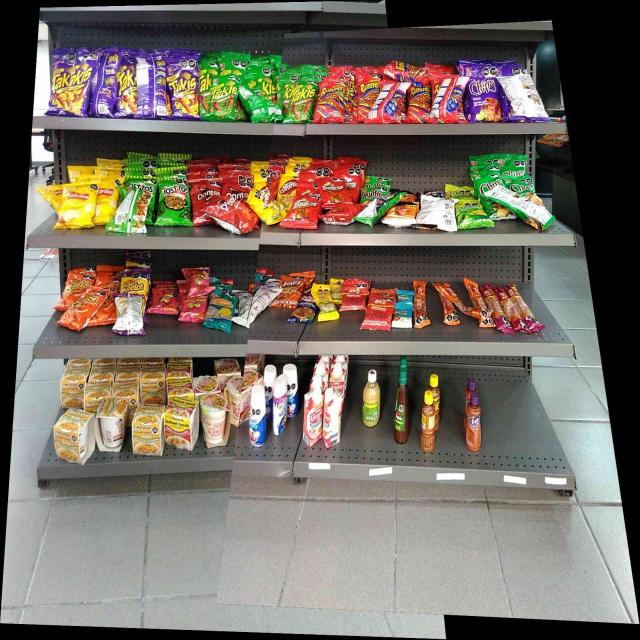bitzAlmendras: (394, 303, 412, 328)
bitzEnchilado90: (370, 289, 391, 331), (342, 280, 366, 309)
bitzEnchilado95: (433, 280, 460, 304), (415, 279, 427, 326), (465, 282, 482, 309)
bitzHabanero: (488, 285, 533, 333)
bokadosCacahuates: (300, 294, 314, 322)
botaneraChilito: (421, 392, 435, 451)
cheetosFlaminHot: (121, 272, 148, 295)
cheetosOriginal: (67, 296, 97, 332), (63, 272, 82, 296)
chipsFuego: (469, 62, 499, 124)
chipsJalapeno: (486, 195, 510, 218), (512, 176, 536, 196)
chipsPapatinas: (456, 195, 483, 229)
churrumais: (152, 286, 177, 316), (185, 268, 210, 294), (182, 296, 204, 321)
delPrimoSalsa: (363, 369, 379, 426)
doritosNacho: (221, 200, 250, 232), (191, 180, 219, 204), (222, 178, 249, 198)
fritosLimon: (254, 189, 276, 223), (280, 175, 296, 202)
hotNutsOriginal: (388, 203, 418, 226)
leoMix: (281, 276, 297, 308)
maruchanPollo: (56, 405, 92, 464), (133, 404, 163, 456), (97, 398, 125, 452)
maruchanRes: (167, 399, 196, 450)
nestleCarnation: (303, 391, 322, 444), (324, 389, 340, 445)
nestleLechera: (250, 387, 266, 446), (274, 379, 286, 434), (288, 364, 297, 417)
nissinCamaron: (201, 395, 228, 446)
productoAtras: (503, 74, 546, 124), (240, 78, 280, 125), (432, 75, 467, 125), (138, 56, 166, 118), (420, 192, 454, 233), (95, 56, 114, 116), (120, 186, 144, 233), (519, 198, 552, 231), (383, 79, 403, 123), (358, 202, 384, 224)
rancheritos: (320, 178, 347, 204), (298, 197, 317, 229)
rufflesQueso: (358, 183, 388, 198)
runners: (320, 78, 346, 122), (407, 82, 429, 124), (355, 73, 379, 104)
sabritasOriginal: (61, 184, 93, 228), (98, 180, 115, 223)
salsaBufalo: (395, 370, 408, 443)
semillasCalabaza: (316, 283, 331, 322)
semillasGirasol: (209, 296, 232, 332)
tajinDulce: (467, 393, 481, 452)
takisFuego: (169, 59, 196, 117), (72, 55, 91, 114), (117, 63, 137, 115), (52, 53, 69, 106)
takisOriginal: (284, 76, 312, 122), (214, 76, 236, 122), (199, 63, 210, 111)
tostitos: (157, 179, 188, 226)
